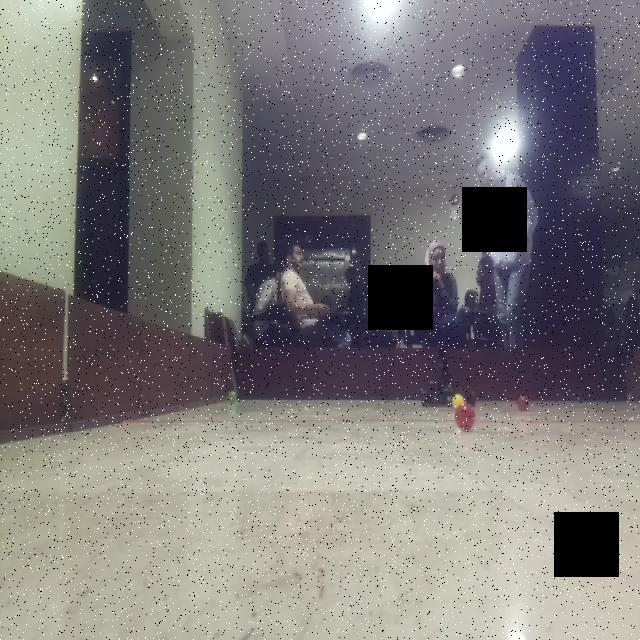ball: (455, 404, 478, 431), (513, 390, 533, 415), (450, 389, 467, 408)
